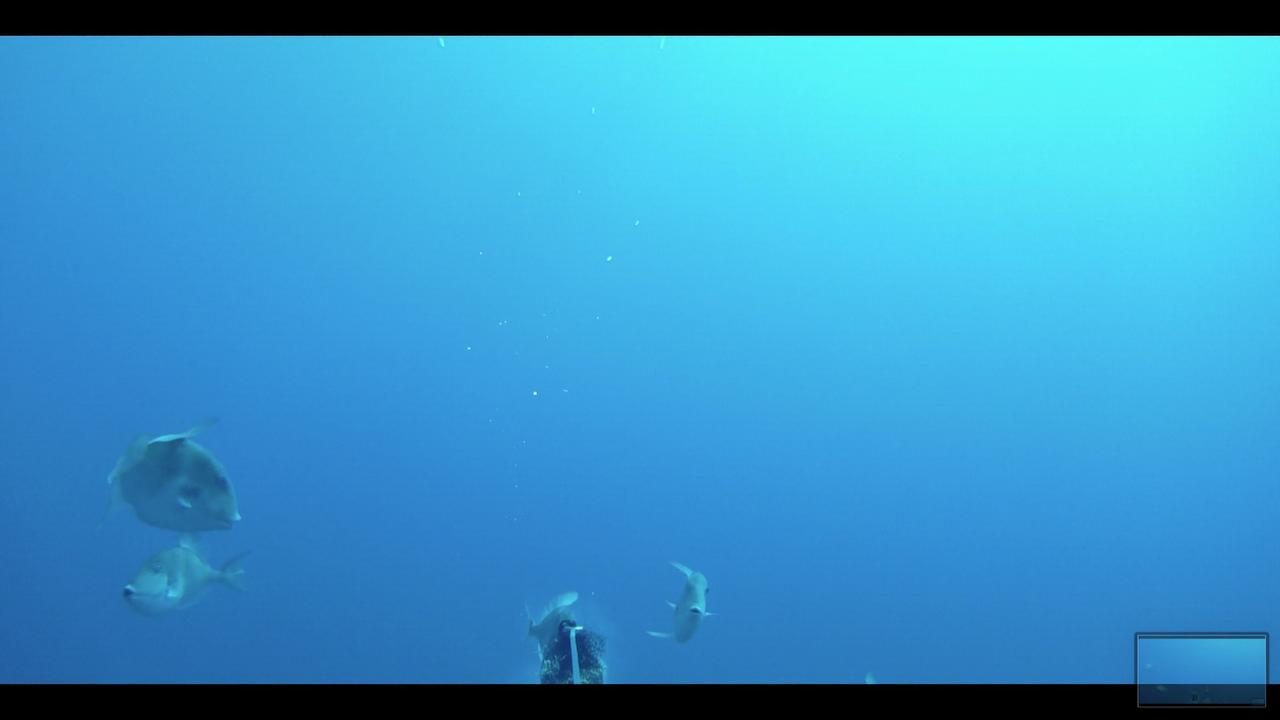balistes: (108, 424, 253, 535), (108, 532, 260, 616), (638, 552, 723, 650)
